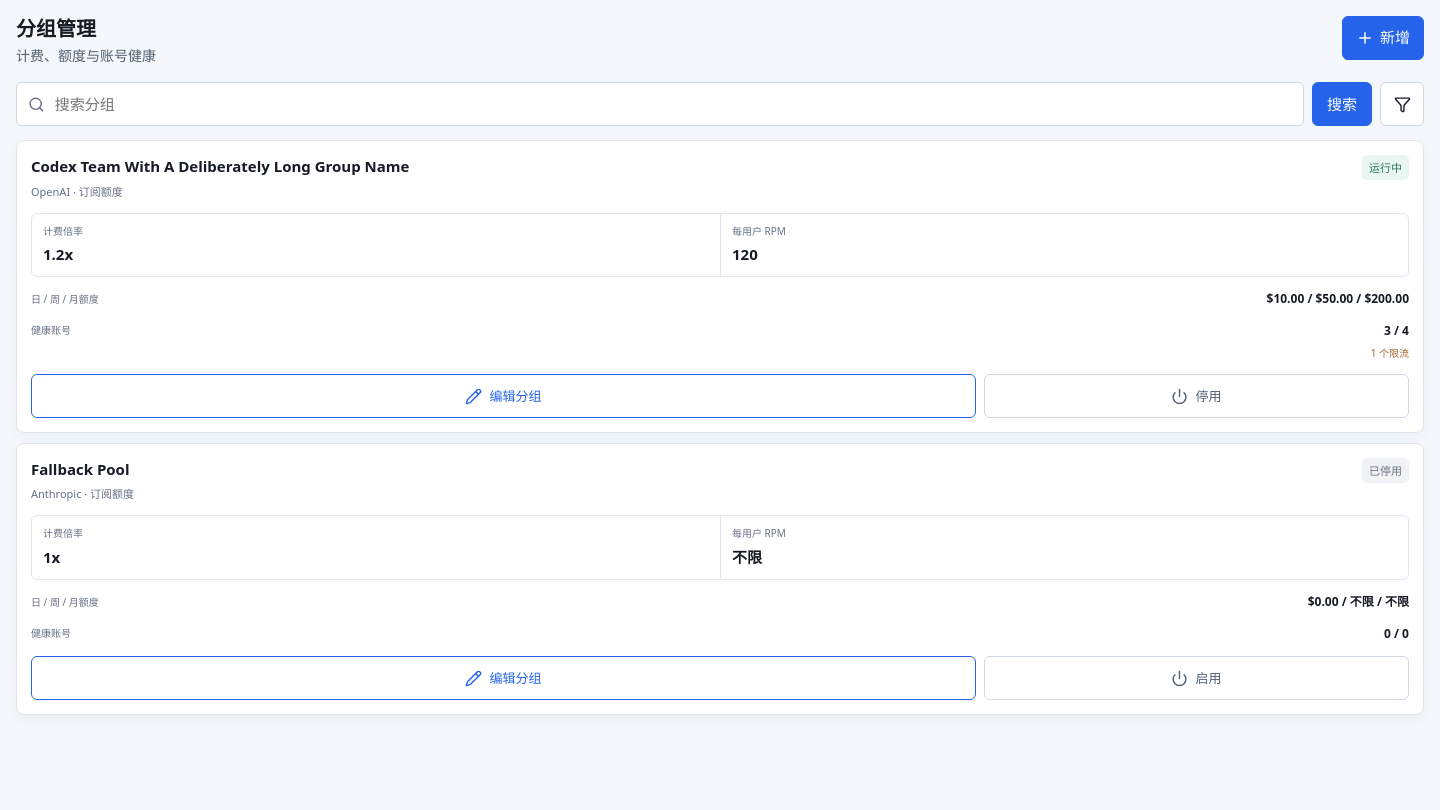
Scenario: MobileAdminGroupsView › rejects infinite rate multiplier without submitting or leaking the raw value
The image size is (1440, 810).
Click the button with test id "edit-group-8" at (503, 396), box [31,374,976,418]
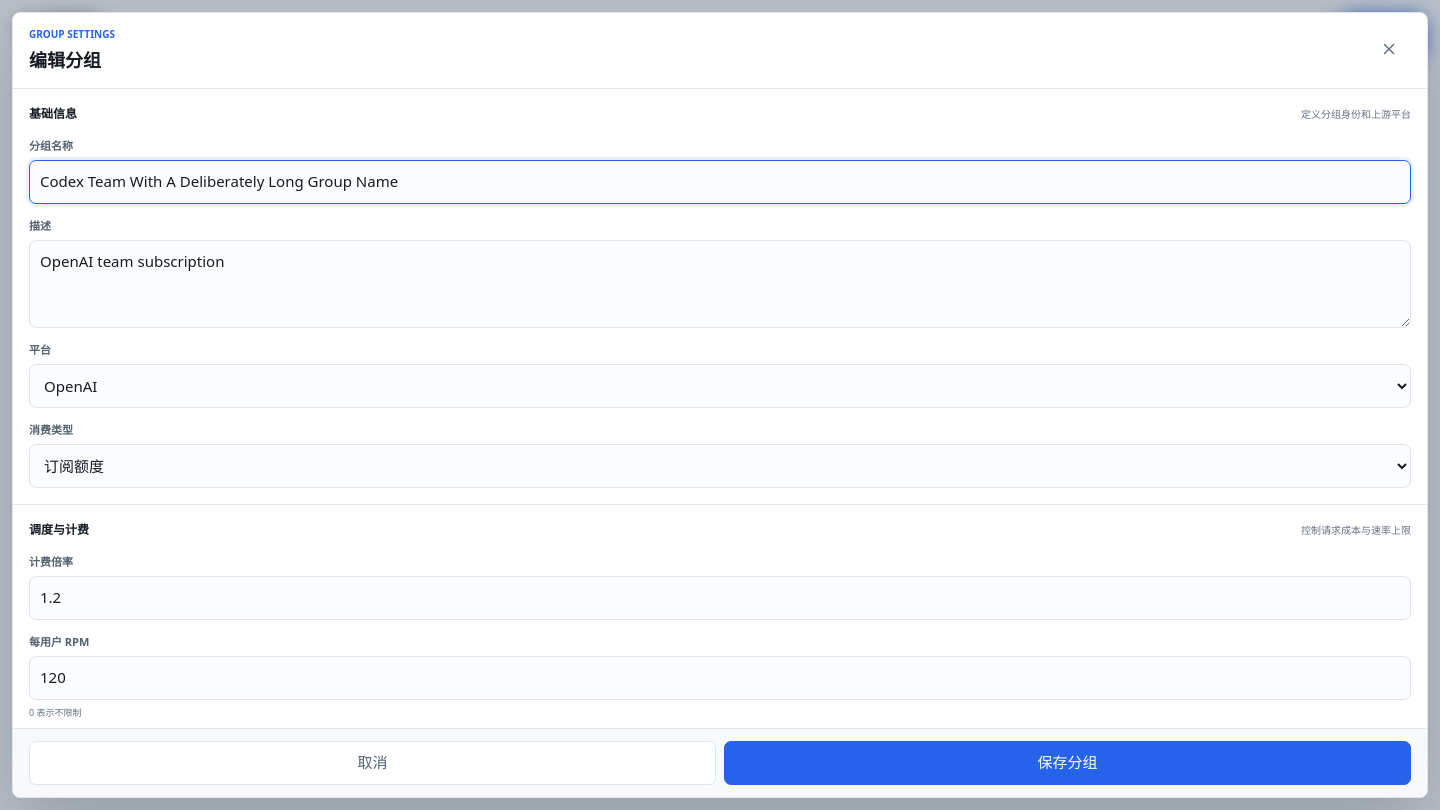
Replace the text in the field with test id "group-rate-multiplier" with "Infinity" at (720, 598), box [29,576,1411,620]
(page scrolled)
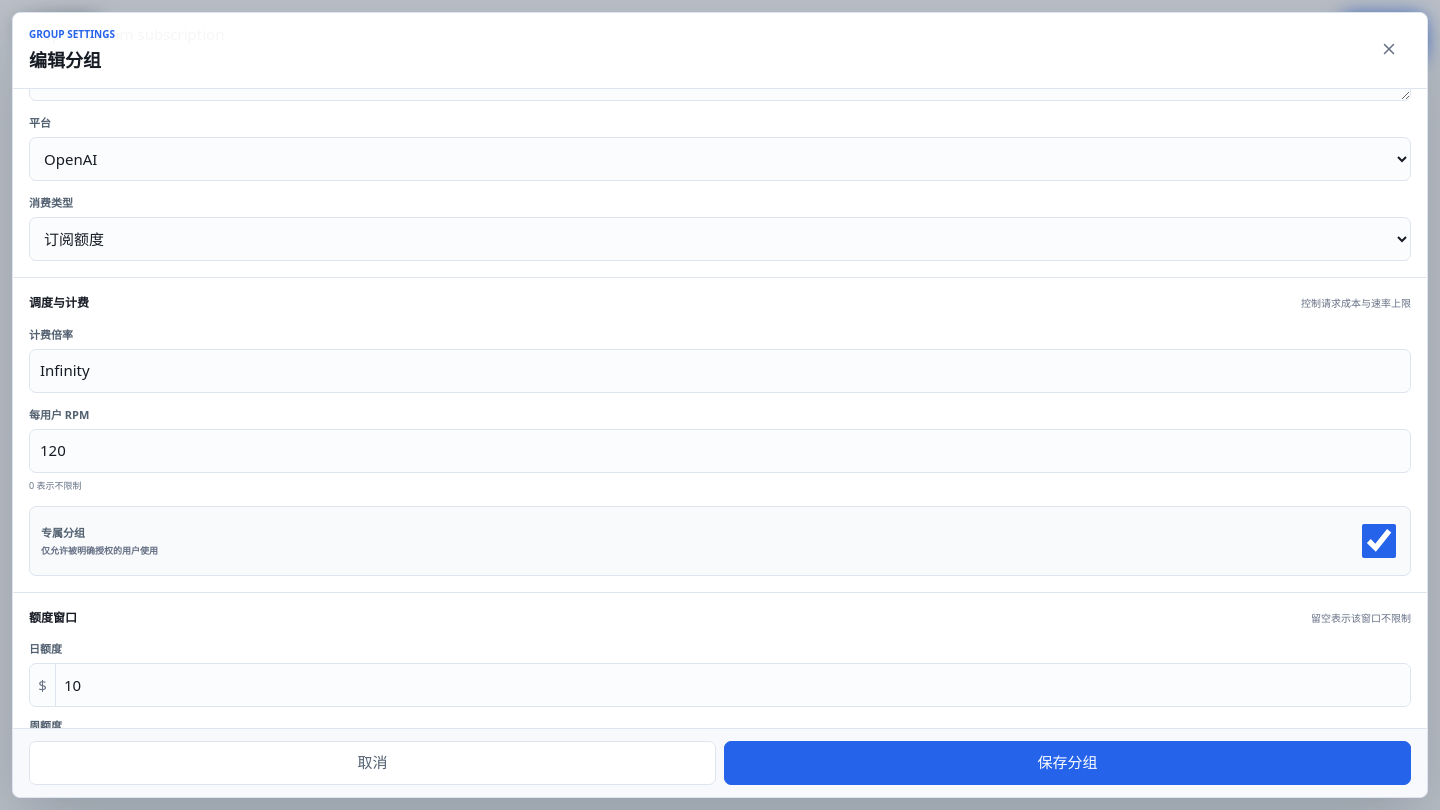
Submit the form with test id "group-editor" that starts with "基础信息"
(page scrolled)
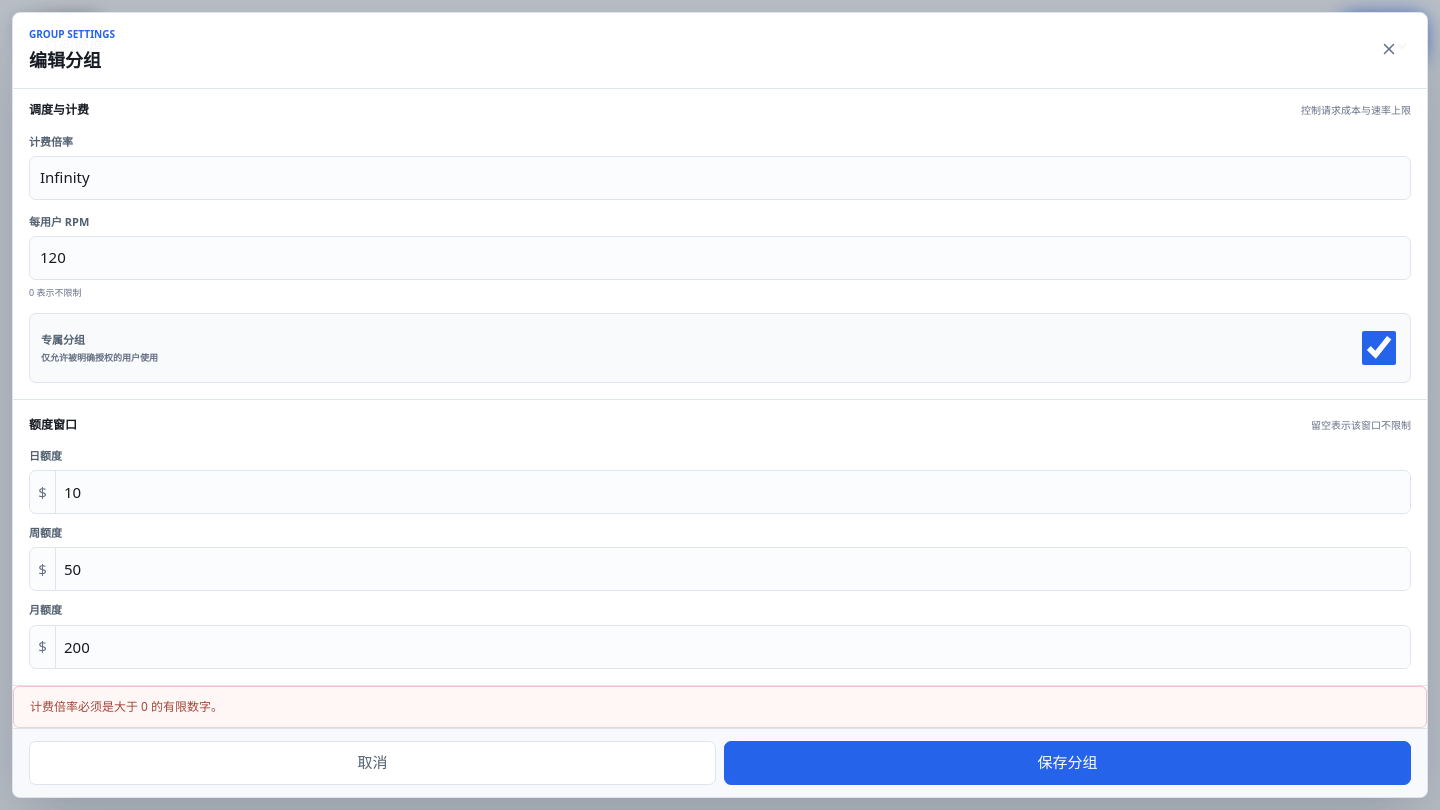
Expected: the text "Infinity" is not shown
Expected: the dialog with class "group-editor" that starts with "GROUP SETTINGS" is shown
Expected: the message "计费倍率必须是大于 0 的有限数字。" is shown, [13,686,1427,728]
